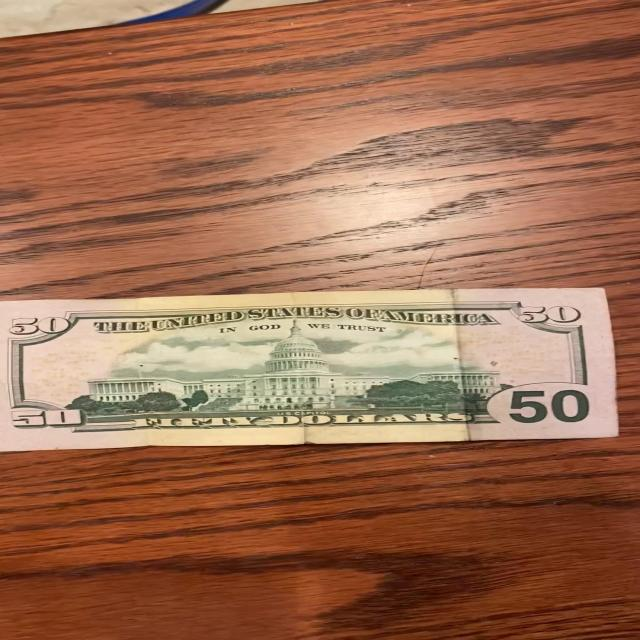50-Back: (0, 286, 626, 459)
